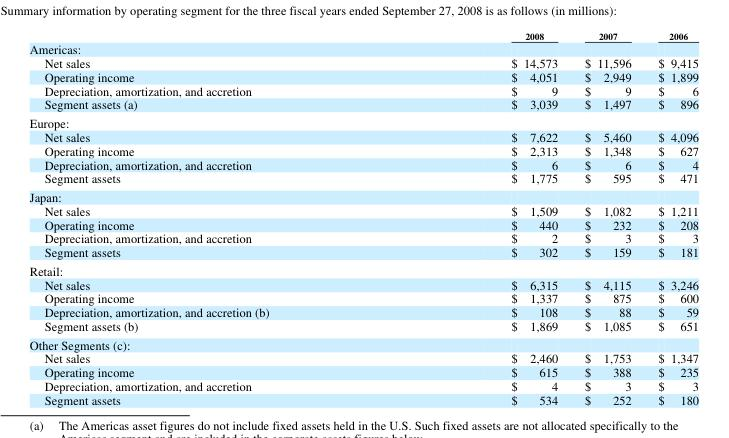table: (28, 29, 698, 407)
table column: (28, 29, 389, 407), (389, 29, 570, 407), (570, 29, 644, 407), (644, 29, 698, 407)
table column header: (28, 29, 698, 41)
table projected row header: (28, 112, 698, 129), (28, 186, 698, 202), (28, 260, 698, 276), (28, 334, 698, 350), (28, 41, 698, 55)
table row: (28, 112, 698, 129), (28, 96, 698, 112), (28, 170, 698, 186), (28, 186, 698, 202), (28, 244, 698, 260), (28, 260, 698, 276), (28, 318, 698, 334), (28, 334, 698, 350), (28, 392, 698, 407), (28, 41, 698, 55), (28, 55, 698, 69), (28, 82, 698, 96), (28, 142, 698, 156), (28, 156, 698, 170), (28, 202, 698, 216), (28, 216, 698, 230), (28, 230, 698, 244), (28, 276, 698, 290), (28, 290, 698, 304), (28, 304, 698, 318), (28, 350, 698, 364), (28, 364, 698, 378), (28, 378, 698, 392), (28, 69, 698, 82), (28, 129, 698, 142), (28, 29, 698, 41)
